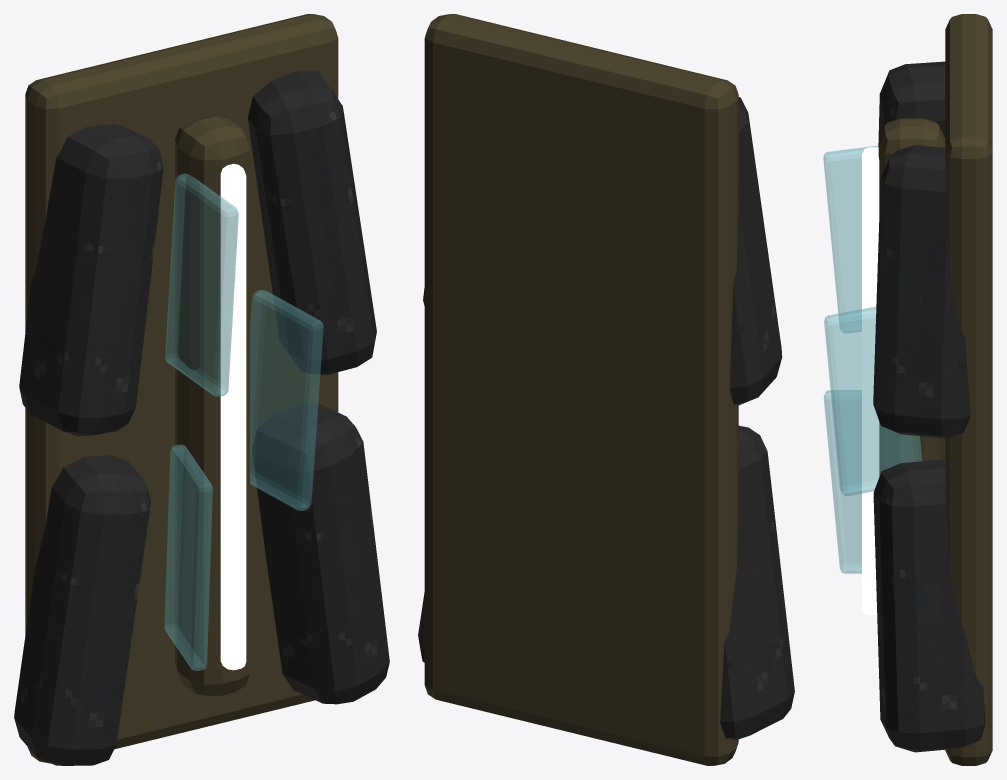
Rendered from cult_rift_seal_scar.glb.
The picture shows the model from 3 angles, left to right: view 1: azimuth 30°, elevation 25°; view 2: azimuth 150°, elevation 25°; view 3: azimuth 270°, elevation 25°; orthographic projection. The views are drawn at different scales.
Parts seen in each view (by area): view 1: CULT_RIFT_SEAL_SCAR__Wall_Wound, CULT_RIFT_SEAL_SCAR__Bent_Metal_3, CULT_RIFT_SEAL_SCAR__Bent_Metal_2, CULT_RIFT_SEAL_SCAR__Bent_Metal_1, CULT_RIFT_SEAL_SCAR__Fissure_Dark, CULT_RIFT_SEAL_SCAR__Bent_Metal_4, CULT_RIFT_SEAL_SCAR__Fissure_Core, CULT_RIFT_SEAL_SCAR__Vapour_Ribbon_2, CULT_RIFT_SEAL_SCAR__Vapour_Ribbon_3, CULT_RIFT_SEAL_SCAR__Vapour_Ribbon_1; view 2: CULT_RIFT_SEAL_SCAR__Wall_Wound, CULT_RIFT_SEAL_SCAR__Bent_Metal_1, CULT_RIFT_SEAL_SCAR__Bent_Metal_3; view 3: CULT_RIFT_SEAL_SCAR__Wall_Wound, CULT_RIFT_SEAL_SCAR__Bent_Metal_2, CULT_RIFT_SEAL_SCAR__Bent_Metal_4, CULT_RIFT_SEAL_SCAR__Vapour_Ribbon_2, CULT_RIFT_SEAL_SCAR__Fissure_Core, CULT_RIFT_SEAL_SCAR__Vapour_Ribbon_3, CULT_RIFT_SEAL_SCAR__Vapour_Ribbon_1, CULT_RIFT_SEAL_SCAR__Fissure_Dark, CULT_RIFT_SEAL_SCAR__Bent_Metal_3.
Part boxes in pixels (x1=…): CULT_RIFT_SEAL_SCAR__Wall_Wound: x1=25, y1=14, x2=338, y2=763; CULT_RIFT_SEAL_SCAR__Bent_Metal_3: x1=19, y1=124, x2=163, y2=436; CULT_RIFT_SEAL_SCAR__Bent_Metal_2: x1=252, y1=404, x2=389, y2=704; CULT_RIFT_SEAL_SCAR__Bent_Metal_1: x1=14, y1=454, x2=150, y2=765; CULT_RIFT_SEAL_SCAR__Fissure_Dark: x1=175, y1=116, x2=249, y2=696; CULT_RIFT_SEAL_SCAR__Bent_Metal_4: x1=247, y1=70, x2=376, y2=374; CULT_RIFT_SEAL_SCAR__Fissure_Core: x1=220, y1=164, x2=246, y2=670; CULT_RIFT_SEAL_SCAR__Vapour_Ribbon_2: x1=250, y1=290, x2=323, y2=510; CULT_RIFT_SEAL_SCAR__Vapour_Ribbon_3: x1=165, y1=173, x2=238, y2=396; CULT_RIFT_SEAL_SCAR__Vapour_Ribbon_1: x1=164, y1=444, x2=212, y2=670; CULT_RIFT_SEAL_SCAR__Wall_Wound: x1=424, y1=14, x2=738, y2=765; CULT_RIFT_SEAL_SCAR__Bent_Metal_1: x1=720, y1=425, x2=794, y2=739; CULT_RIFT_SEAL_SCAR__Bent_Metal_3: x1=729, y1=97, x2=782, y2=405; CULT_RIFT_SEAL_SCAR__Wall_Wound: x1=945, y1=14, x2=992, y2=765; CULT_RIFT_SEAL_SCAR__Bent_Metal_2: x1=873, y1=459, x2=985, y2=752; CULT_RIFT_SEAL_SCAR__Bent_Metal_4: x1=873, y1=145, x2=970, y2=438; CULT_RIFT_SEAL_SCAR__Vapour_Ribbon_2: x1=824, y1=306, x2=922, y2=495; CULT_RIFT_SEAL_SCAR__Fissure_Core: x1=862, y1=147, x2=879, y2=615; CULT_RIFT_SEAL_SCAR__Vapour_Ribbon_3: x1=823, y1=145, x2=878, y2=333; CULT_RIFT_SEAL_SCAR__Vapour_Ribbon_1: x1=823, y1=390, x2=861, y2=573; CULT_RIFT_SEAL_SCAR__Fissure_Dark: x1=878, y1=118, x2=945, y2=475; CULT_RIFT_SEAL_SCAR__Bent_Metal_3: x1=878, y1=61, x2=945, y2=146.
Bounding box in the file's own units: 0.7923 × 1.46 × 0.3569.
Materials: 4 (1 with a texture image).
